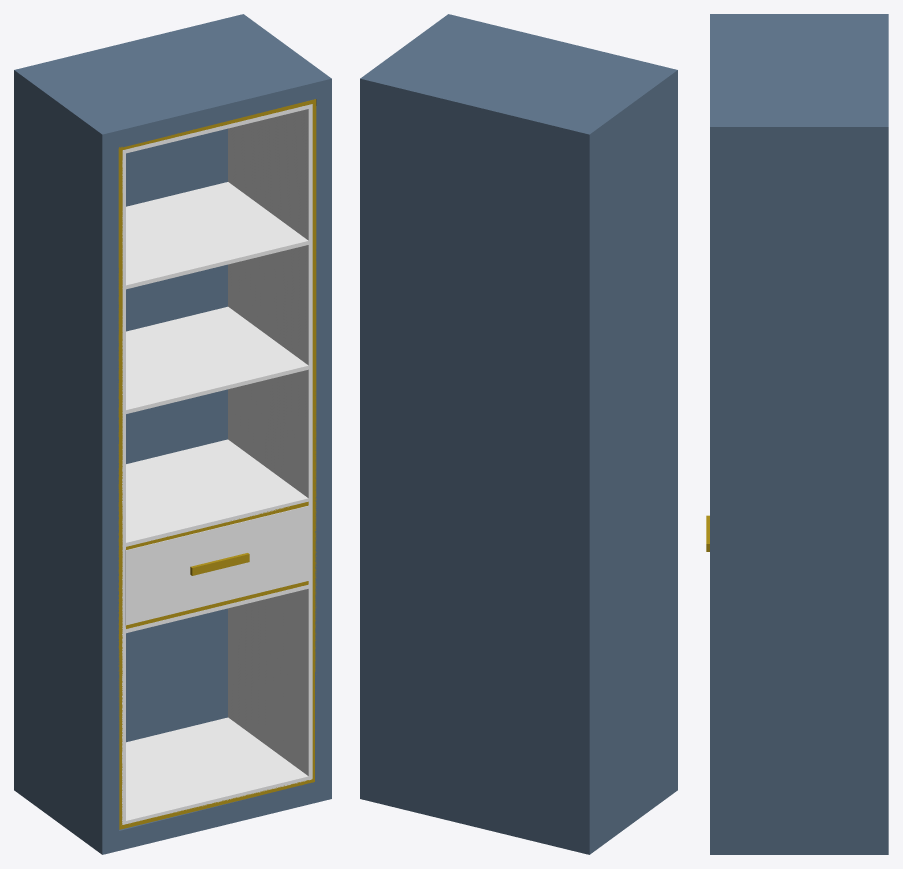
3 renders of one model, left to right at view 1: azimuth 30°, elevation 25°; view 2: azimuth 150°, elevation 25°; view 3: azimuth 270°, elevation 25°, orthographic.
Parts seen in each view (by area): view 1: Cube, Cube.003, Cube.013, Cube.011, Cube.012, Cube.015, Cube.008, Cube.002, Cube.001, Cube.004, Cube.007, Cube.016 (+5 smaller); view 2: Cube; view 3: Cube.
Part boxes in pixels (x1,y1,x2,y2): Cube: (14,14,331,854); Cube.003: (228,106,312,778); Cube.013: (125,505,308,625); Cube.011: (126,306,312,413); Cube.012: (123,182,308,289); Cube.015: (125,439,308,546); Cube.008: (124,717,312,824); Cube.002: (118,146,122,829); Cube.001: (312,99,316,781); Cube.004: (122,152,125,824); Cube.007: (122,104,312,153); Cube.016: (125,584,308,633); Cube: (360,14,677,854); Cube: (710,14,888,854).
Bounding box in the file's own units: 0.6 × 1.8 × 0.4082.
